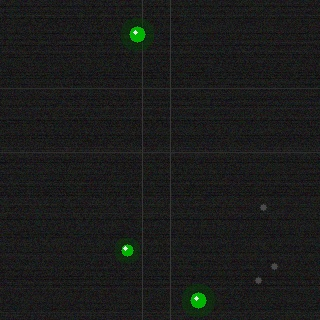green_normal: (127, 24, 147, 44), (188, 290, 208, 310), (119, 242, 135, 258)
